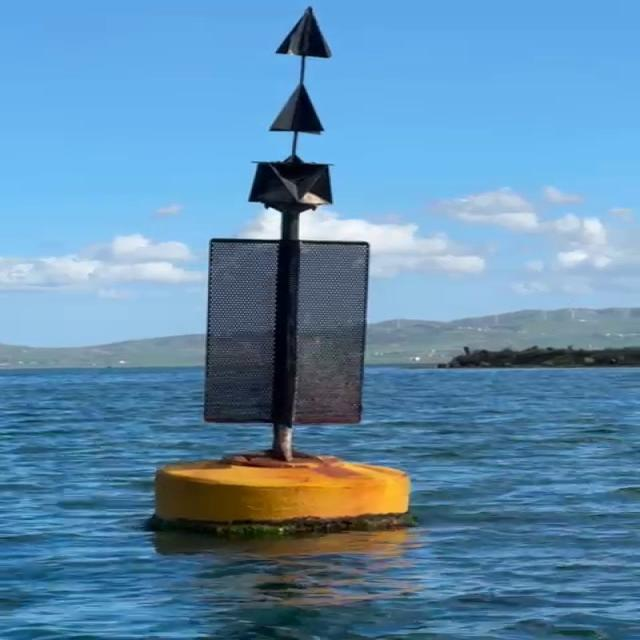marque: (157, 8, 425, 541)
